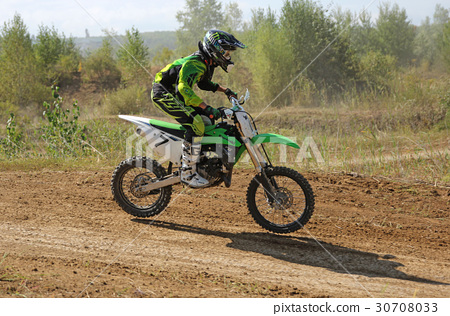helmet: (200, 24, 241, 66)
